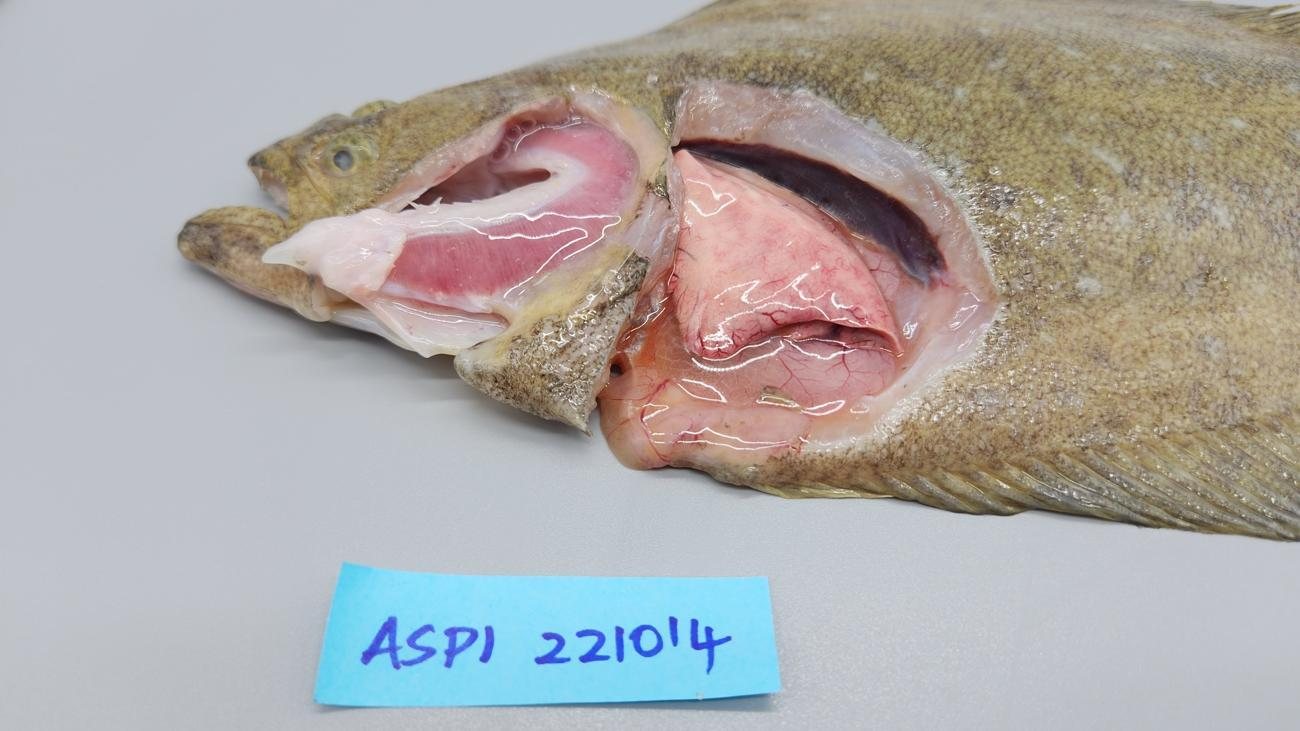SPGIP: (386, 117, 637, 296)
